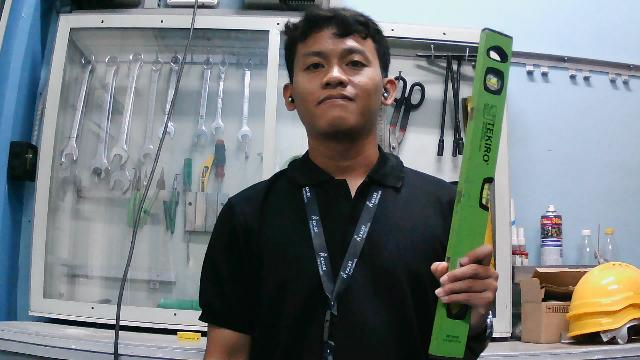water_pass: (427, 18, 516, 357)
